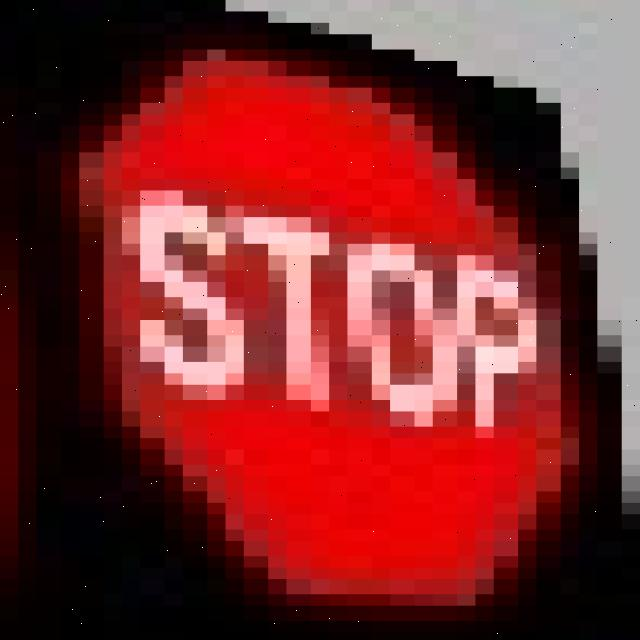stop: (108, 172, 558, 458)
